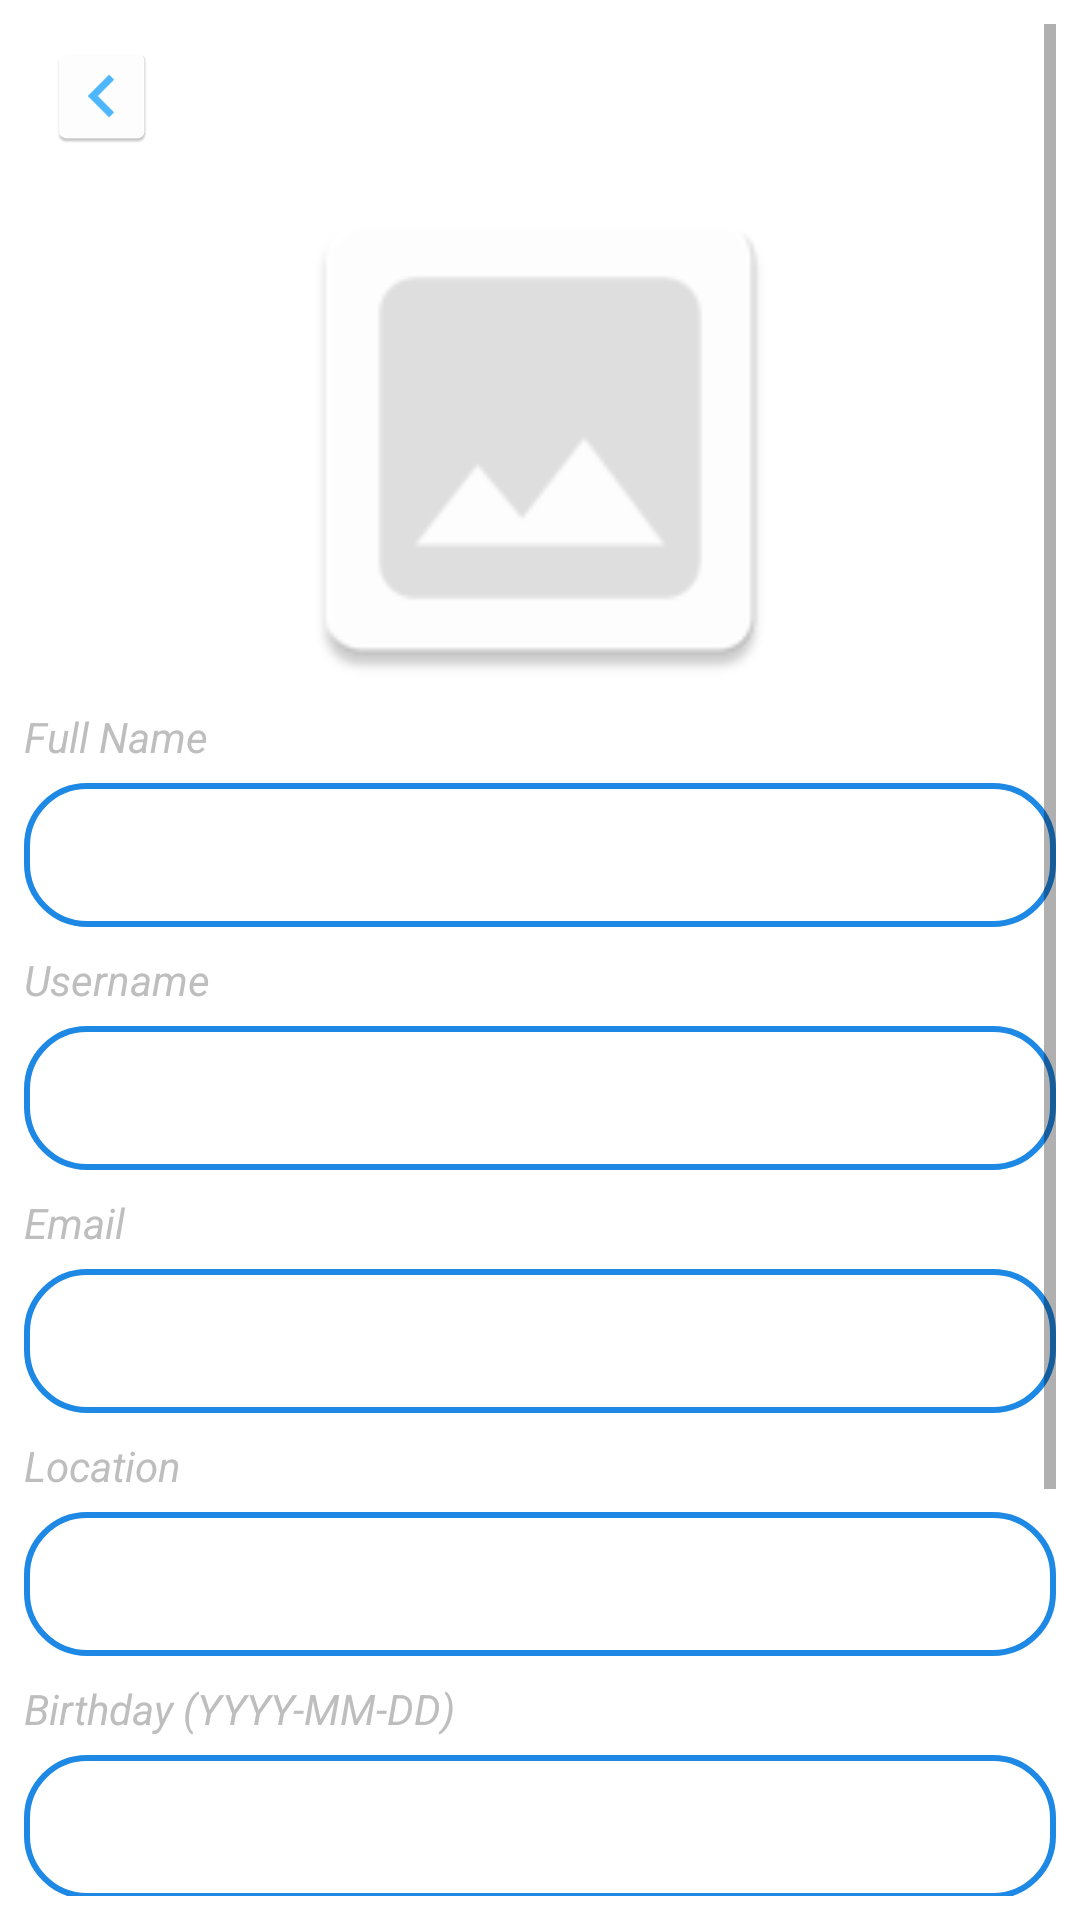

Icons on this 1080w x 1920h Android screen, each with the point to tap as (x,y):
goback: (102,99)
